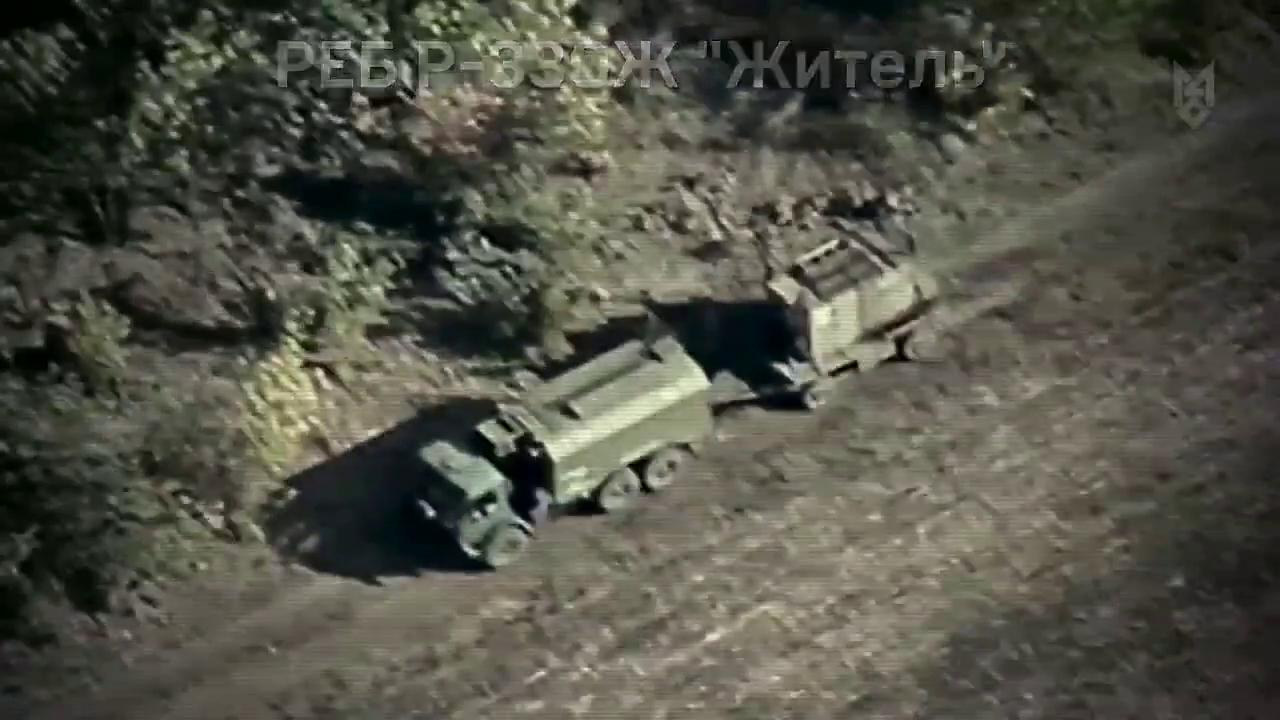tank: (408, 329, 735, 570), (742, 228, 958, 415)
